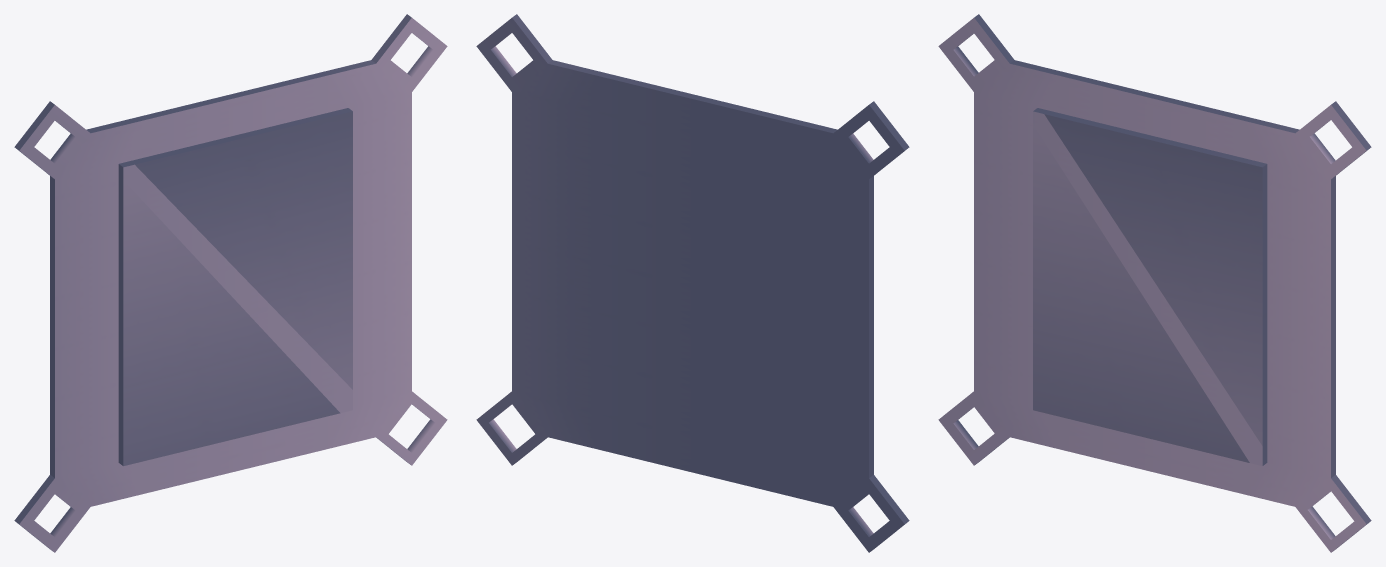
Rendered from platesMetal.glb.
3 renders of one model, left to right at view 1: azimuth 30°, elevation 25°; view 2: azimuth 150°, elevation 25°; view 3: azimuth 330°, elevation 25°, orthographic.
Visible parts, largest first — view 1: Plate; view 2: Plate; view 3: Plate.
Part boxes in pixels (x1,y1,x2,y2): Plate: [14, 14, 447, 552]; Plate: [476, 14, 909, 552]; Plate: [938, 14, 1371, 552].
Bounding box in the file's own units: 0.24 × 0.24 × 0.00944.
Materials: 1 (1 with a texture image).
